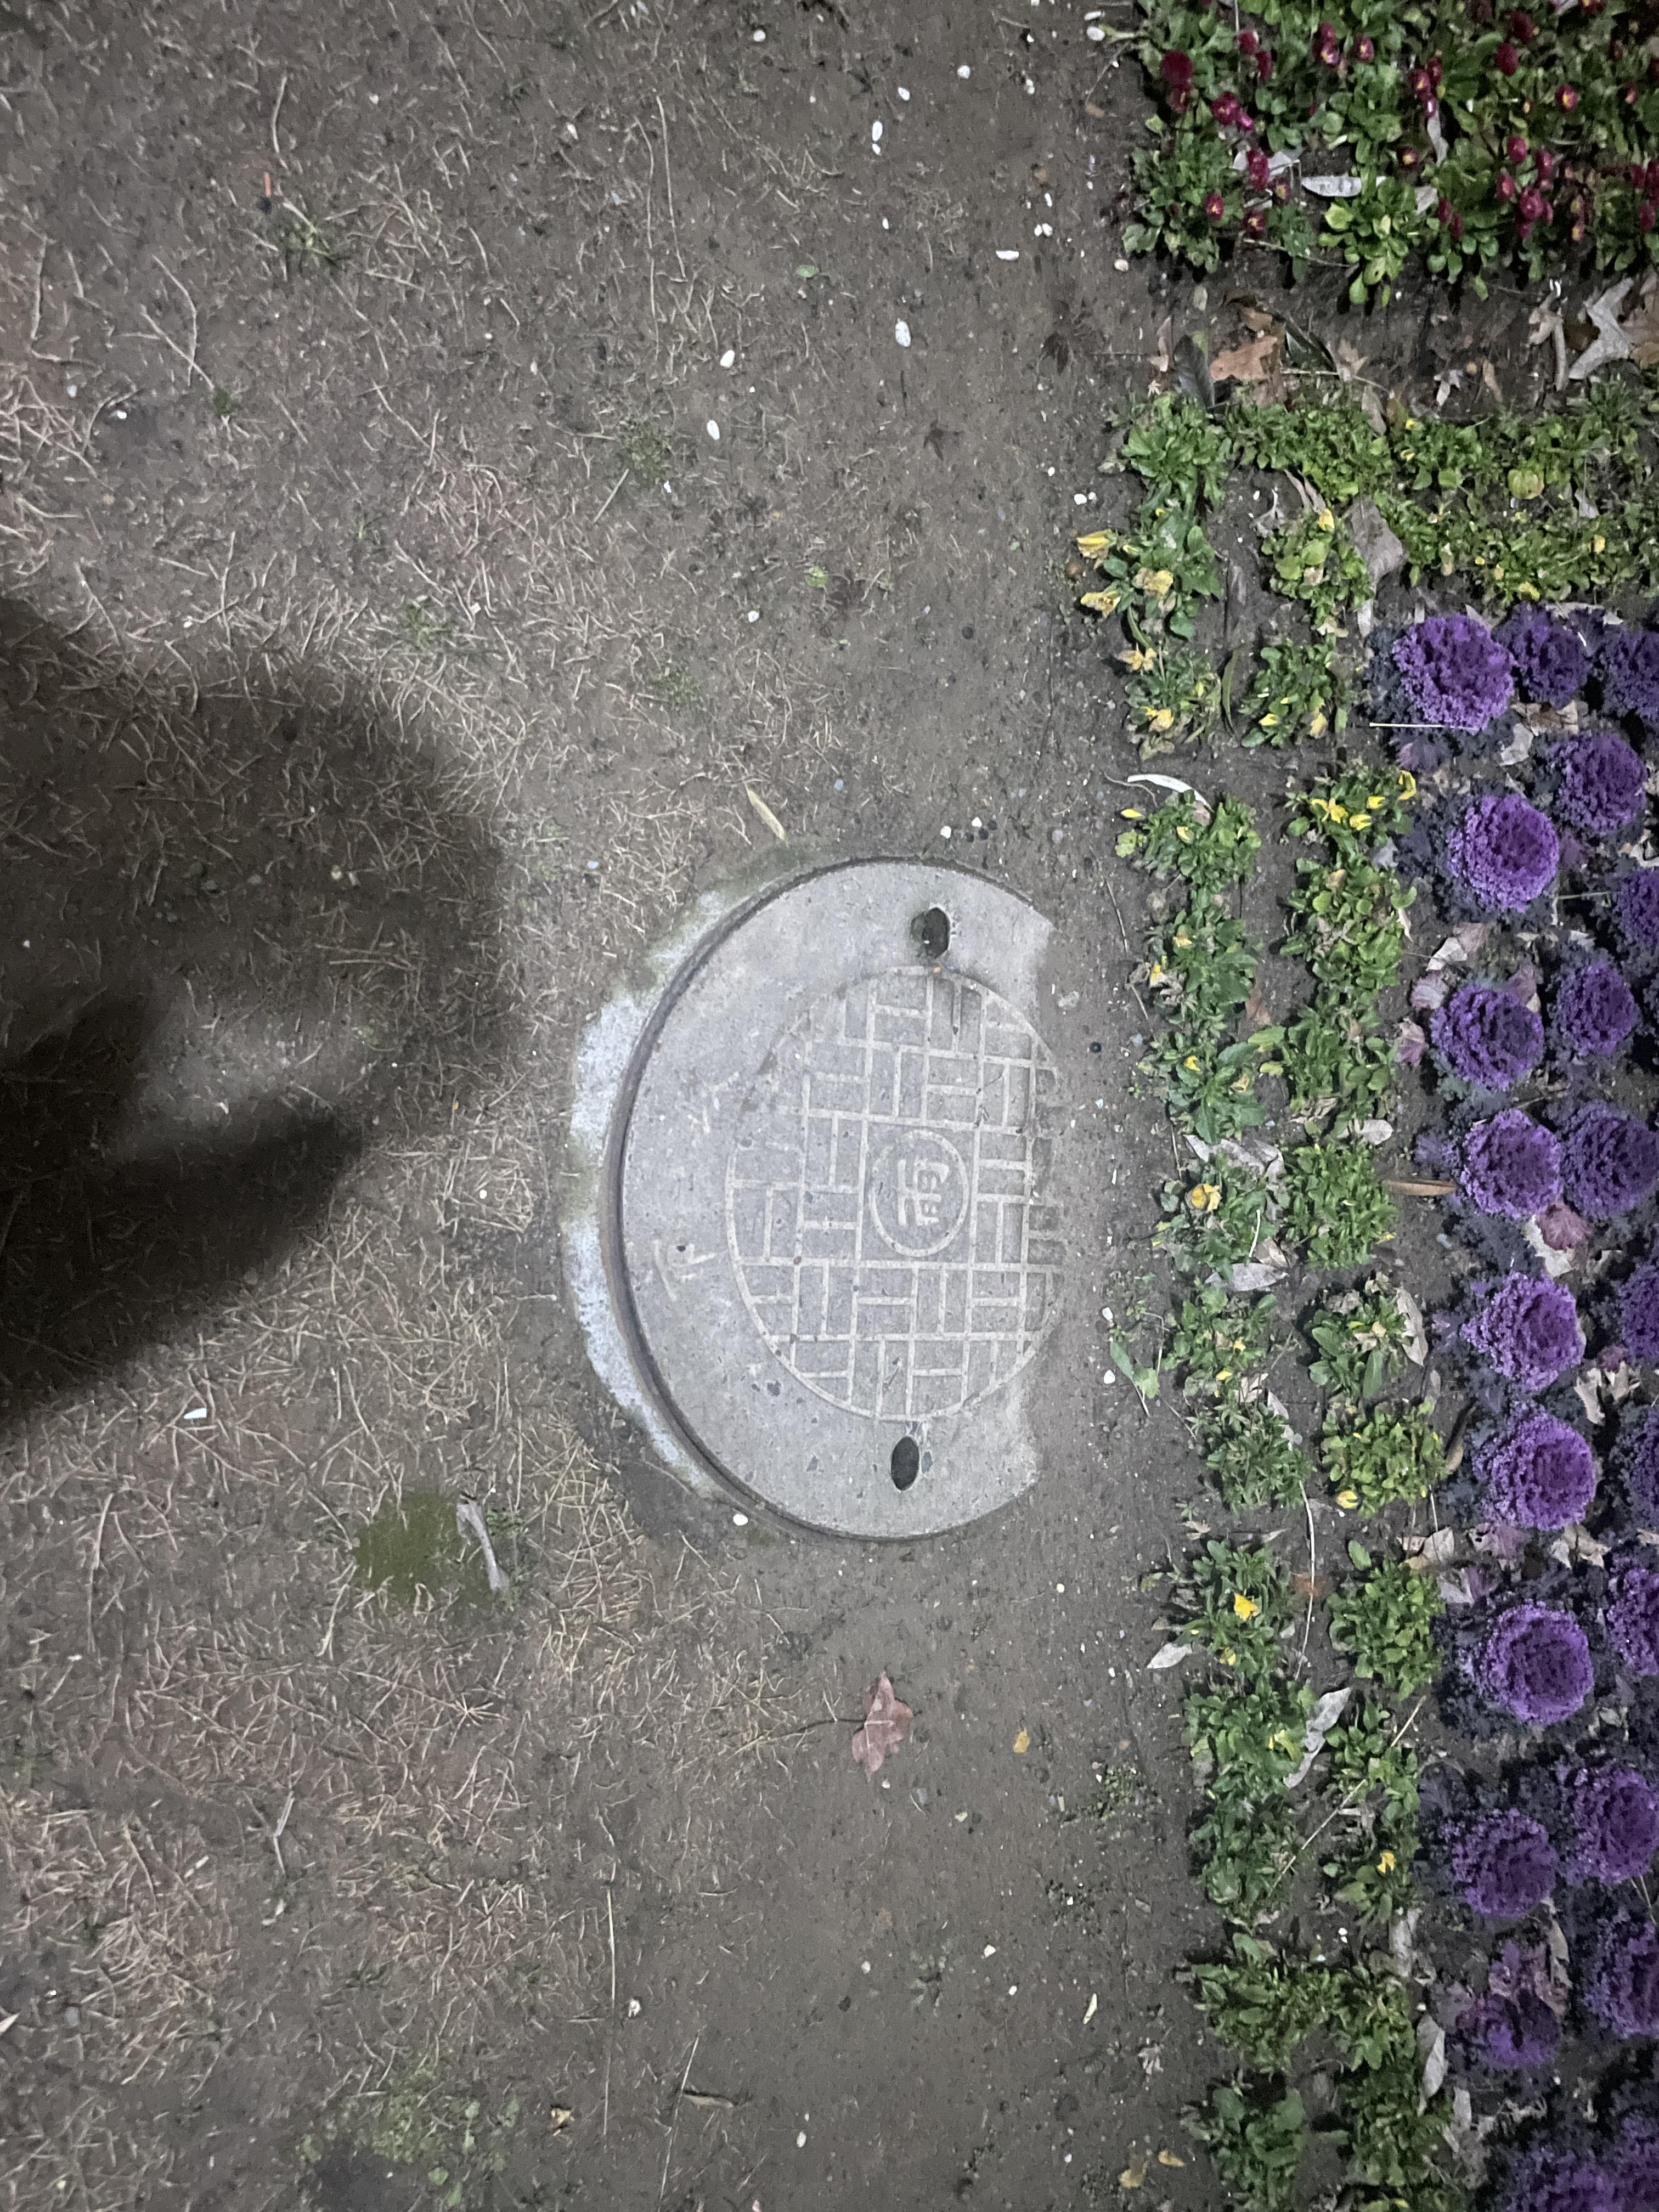wellcover: (556, 830, 1104, 1599)
